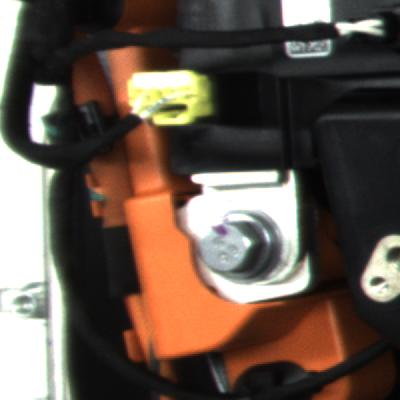nut_b: (195, 204, 290, 289)
